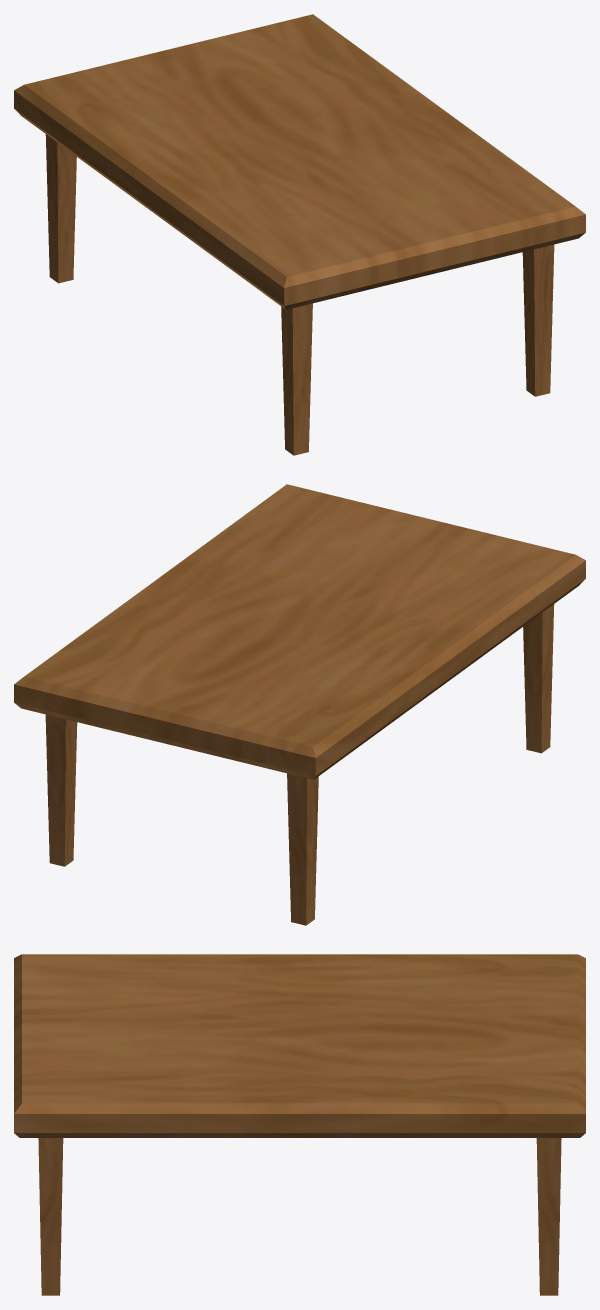
Rendered from Kitchen Table.FBX.
The picture shows the model from 3 angles, top to bottom: view 1: azimuth 30°, elevation 25°; view 2: azimuth 150°, elevation 25°; view 3: azimuth 270°, elevation 25°; orthographic projection. The views are drawn at different scales.
Parts seen in each view (by area): view 1: Table; view 2: Table; view 3: Table.
Part boxes in pixels (bbox=[...]): Table: bbox=[14, 14, 585, 455]; Table: bbox=[14, 484, 585, 925]; Table: bbox=[14, 954, 585, 1295].
Size of the model in its own units: 200 by 120 by 310.
Materials: 1 (1 with a texture image).
